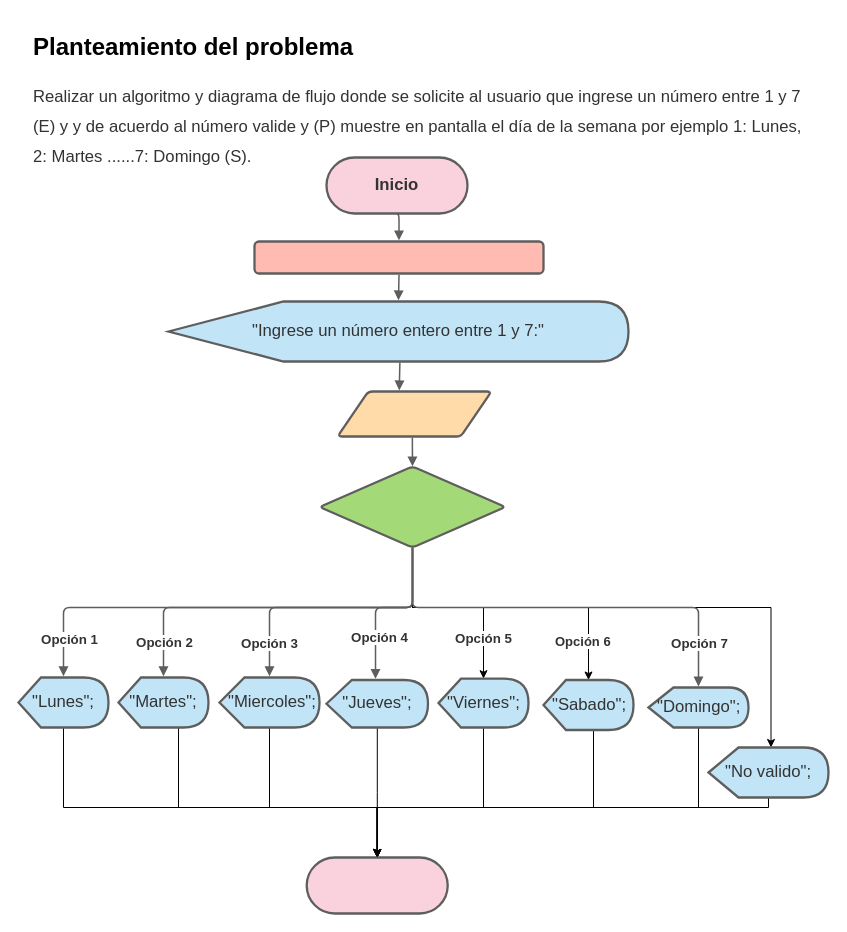
Image size: 847x932. Some labels were removed from this diagram. The shapes that lost their labels are listed below. From the top down, each one's box as (x1, y1, x2, y2) in pixels, then its label:
(253, 240, 544, 274): Definir Dia como Entero;
(336, 390, 492, 437): Dia
(318, 465, 506, 548): Prom>=7
(305, 856, 448, 914): Fin
